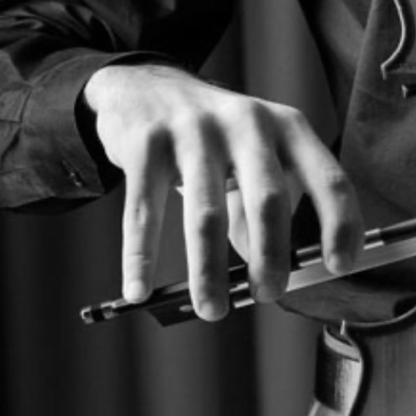good: (108, 82, 382, 330)
